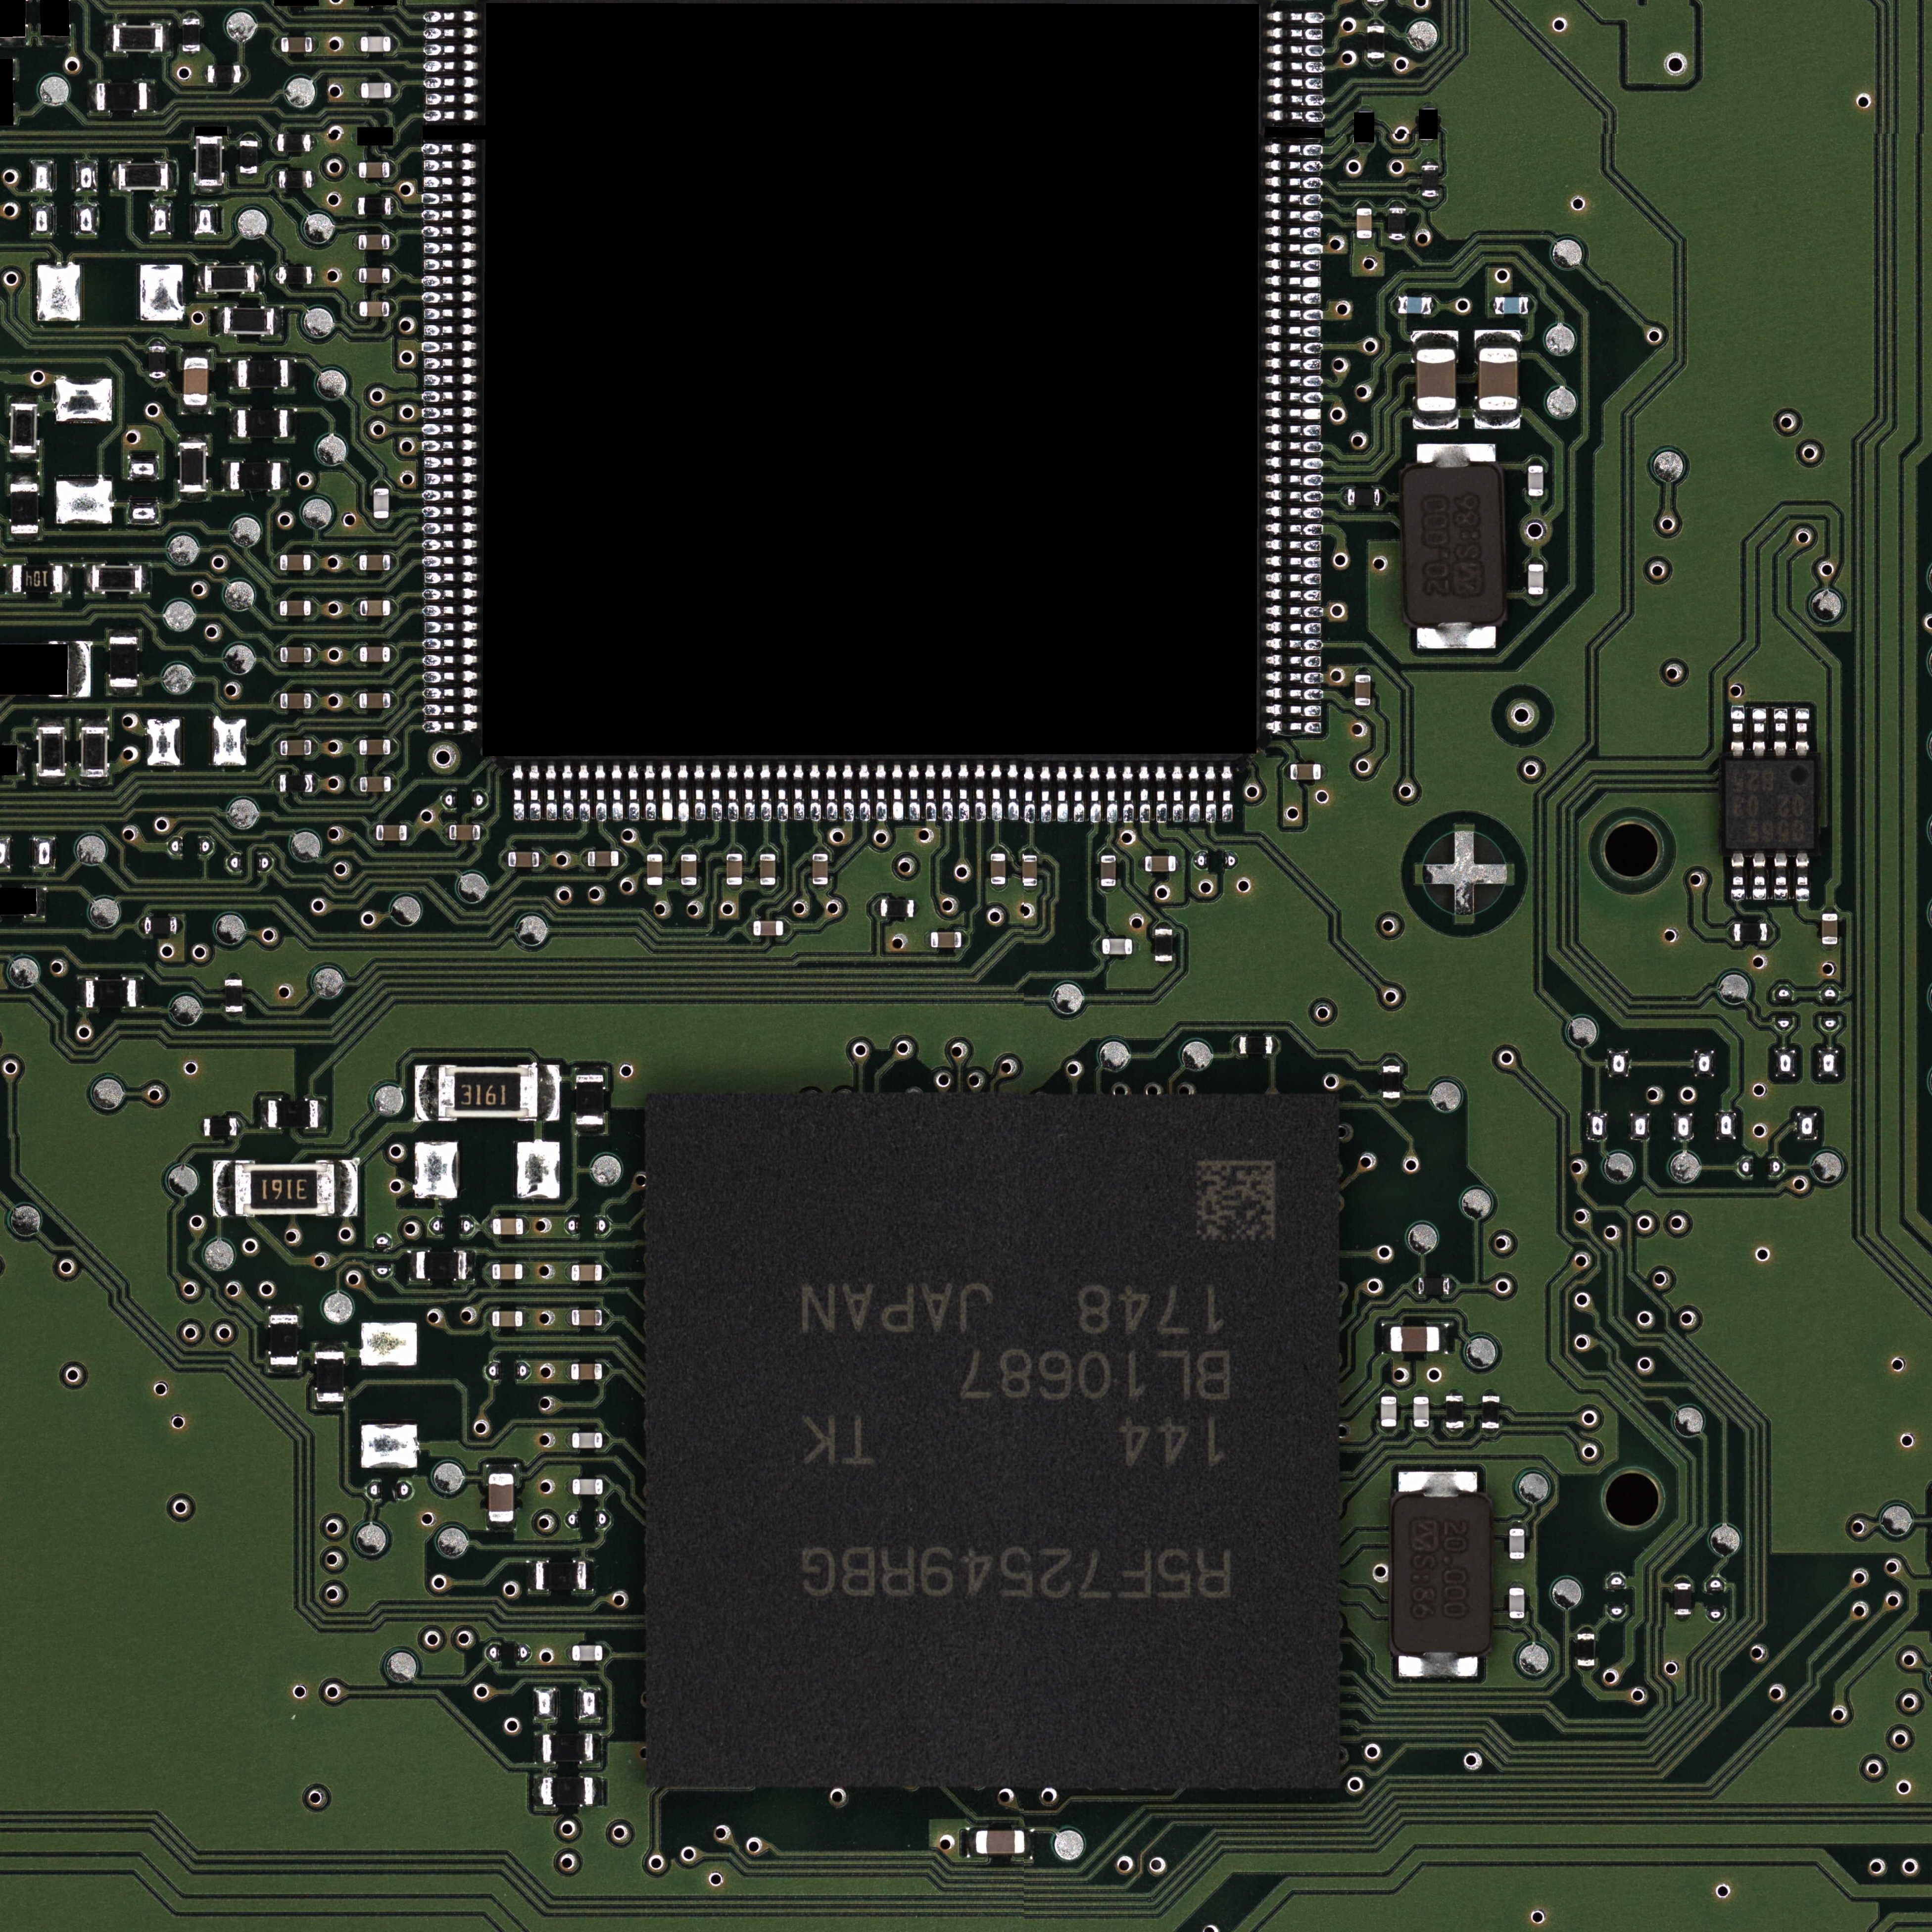Package: (646, 1095, 1341, 1790), (1403, 467, 1504, 621), (1392, 1499, 1491, 1652), (1725, 761, 1815, 849), (439, 1065, 538, 1118), (235, 1164, 334, 1215), (1477, 347, 1518, 410), (1415, 349, 1456, 410), (315, 1352, 345, 1401), (416, 1251, 467, 1279), (267, 1100, 318, 1129), (110, 637, 138, 686), (230, 462, 280, 490), (239, 359, 288, 387), (12, 564, 62, 593), (11, 483, 39, 533), (543, 1734, 593, 1762), (543, 1778, 593, 1806), (536, 1562, 586, 1591), (577, 1074, 603, 1125), (225, 308, 274, 334), (97, 83, 147, 110), (113, 25, 163, 51), (237, 410, 287, 437), (205, 265, 255, 292), (271, 1315, 297, 1364), (87, 980, 136, 1007), (196, 136, 221, 186), (119, 165, 168, 189), (92, 566, 142, 591), (180, 442, 205, 492), (81, 727, 106, 777), (39, 727, 64, 777), (11, 403, 35, 453), (975, 1829, 1024, 1854), (1391, 1327, 1440, 1352), (184, 357, 209, 405), (488, 1474, 513, 1522), (239, 140, 258, 173), (357, 196, 391, 216), (1481, 1396, 1500, 1430), (1382, 1065, 1401, 1099), (280, 265, 311, 285), (1154, 929, 1173, 961), (207, 65, 241, 83), (278, 134, 311, 152), (225, 978, 242, 1012), (203, 1118, 237, 1136), (1576, 1633, 1594, 1667), (1238, 1037, 1272, 1054), (1734, 924, 1767, 941), (280, 170, 311, 188), (881, 899, 913, 916), (182, 19, 200, 51), (280, 775, 311, 793), (145, 916, 177, 934), (149, 347, 166, 379), (1399, 297, 1431, 315), (1368, 27, 1385, 58), (1389, 207, 1407, 239), (1348, 488, 1380, 506), (1421, 165, 1438, 196), (1495, 297, 1527, 315), (1445, 1396, 1463, 1428), (1417, 1277, 1449, 1295), (1674, 1583, 1691, 1615), (359, 554, 389, 571), (571, 1431, 602, 1449), (931, 931, 961, 948), (359, 740, 391, 755), (280, 694, 311, 709), (280, 740, 311, 755), (587, 851, 619, 867), (280, 600, 311, 616), (508, 851, 540, 867), (359, 777, 391, 793), (991, 853, 1007, 885), (571, 1364, 603, 1380), (571, 1645, 603, 1661), (1355, 674, 1371, 706), (1822, 913, 1838, 945), (361, 83, 391, 99), (361, 35, 391, 51), (281, 37, 311, 53), (359, 646, 389, 662), (359, 163, 389, 179), (377, 824, 407, 840), (359, 234, 389, 249), (359, 600, 389, 616), (812, 855, 828, 885), (359, 267, 389, 283), (373, 488, 389, 518), (359, 301, 389, 317), (727, 855, 743, 885), (449, 824, 479, 840), (681, 855, 697, 885), (761, 855, 777, 885), (571, 1309, 602, 1325), (573, 1479, 603, 1495), (492, 1311, 522, 1327), (492, 1263, 522, 1279), (571, 1265, 602, 1281), (754, 920, 784, 936), (494, 1219, 524, 1235), (1290, 764, 1320, 780), (1145, 856, 1175, 872), (1529, 564, 1545, 594), (1100, 856, 1116, 886), (1509, 1589, 1525, 1619), (1414, 1398, 1430, 1428), (1380, 1396, 1396, 1426), (1102, 938, 1132, 954), (1509, 1529, 1525, 1559), (280, 648, 311, 662), (280, 556, 311, 570), (359, 694, 389, 708), (648, 855, 662, 885), (1357, 209, 1371, 239), (1529, 465, 1543, 495)
Solder: (1417, 621, 1497, 649), (1399, 1472, 1477, 1499), (1417, 442, 1497, 467), (1399, 1652, 1477, 1677), (538, 1063, 559, 1122), (336, 1161, 357, 1217), (416, 1065, 437, 1122), (69, 640, 90, 697), (214, 1161, 234, 1217), (1474, 329, 1522, 347), (1414, 410, 1456, 430), (1474, 410, 1520, 428), (1794, 708, 1810, 757), (1752, 708, 1767, 757), (1412, 331, 1456, 349), (1267, 257, 1322, 271), (1267, 405, 1322, 419), (1752, 853, 1767, 901), (1730, 706, 1744, 757), (513, 763, 525, 821), (579, 763, 591, 821), (594, 763, 607, 821), (612, 763, 625, 821), (711, 763, 724, 821), (644, 763, 656, 821), (793, 763, 805, 821), (941, 763, 954, 821), (1040, 764, 1053, 823), (1205, 764, 1217, 823), (1773, 708, 1787, 757), (423, 60, 479, 73), (423, 110, 479, 122), (421, 605, 478, 617), (423, 587, 479, 600), (423, 571, 479, 584), (423, 538, 479, 550), (423, 522, 479, 534), (423, 506, 479, 518), (421, 655, 478, 667), (421, 671, 478, 683), (423, 290, 479, 303), (423, 357, 479, 370), (423, 423, 479, 435), (561, 764, 573, 821), (628, 764, 640, 821), (727, 764, 740, 821), (694, 764, 706, 821), (678, 764, 690, 821), (660, 764, 672, 821), (908, 764, 920, 821), (892, 764, 904, 821), (842, 764, 855, 821), (809, 764, 821, 821), (826, 764, 839, 821), (957, 764, 970, 821), (975, 764, 987, 821), (1122, 766, 1134, 823), (1106, 766, 1118, 823), (1267, 110, 1323, 122), (1267, 28, 1323, 41), (425, 11, 479, 23), (425, 27, 479, 39), (425, 44, 479, 57), (425, 76, 479, 88), (425, 92, 479, 104), (423, 143, 478, 156), (423, 159, 478, 172), (423, 193, 478, 205), (423, 209, 478, 221), (423, 225, 478, 237), (423, 258, 478, 271), (425, 554, 479, 566), (425, 488, 479, 501), (425, 472, 479, 485), (423, 639, 478, 651), (423, 686, 478, 699), (423, 720, 478, 732), (423, 324, 478, 336), (423, 340, 478, 352), (425, 373, 479, 386), (423, 389, 478, 402), (423, 405, 478, 418), (423, 439, 478, 451), (423, 456, 478, 469), (1056, 766, 1069, 821), (1088, 766, 1100, 821), (1221, 766, 1233, 821), (1265, 720, 1320, 732), (1265, 704, 1320, 717), (1267, 688, 1322, 701), (1267, 671, 1322, 683), (1267, 605, 1322, 617), (1267, 621, 1322, 633), (1267, 637, 1322, 649), (1267, 655, 1322, 667), (1267, 488, 1322, 501), (1267, 472, 1322, 485), (1267, 506, 1322, 518), (1267, 522, 1322, 534), (1267, 538, 1322, 550), (1267, 587, 1322, 600), (1267, 571, 1322, 584), (1267, 556, 1322, 568), (1267, 209, 1322, 221), (1267, 225, 1322, 237), (1267, 242, 1322, 255), (1267, 274, 1322, 287), (1267, 290, 1322, 303), (1267, 308, 1322, 320), (1267, 324, 1322, 336), (1267, 341, 1322, 354), (1267, 357, 1322, 370), (1267, 373, 1322, 386), (1267, 389, 1322, 402), (1267, 423, 1322, 435), (1265, 439, 1320, 451), (1265, 456, 1320, 469), (1267, 143, 1322, 156), (1267, 159, 1322, 172), (1267, 175, 1322, 188), (1267, 193, 1322, 205), (1269, 78, 1323, 90), (1269, 94, 1323, 106), (1269, 60, 1323, 73), (1269, 44, 1323, 57), (1267, 11, 1322, 23), (1775, 853, 1789, 901), (1730, 853, 1744, 901), (425, 621, 478, 633), (423, 274, 476, 287), (425, 306, 478, 318), (529, 763, 540, 821), (547, 763, 557, 821), (860, 763, 870, 821), (1008, 763, 1019, 821), (1074, 764, 1085, 823), (1173, 764, 1184, 823), (1796, 853, 1808, 902), (745, 764, 755, 821), (761, 764, 771, 821), (876, 764, 886, 821), (777, 764, 787, 821), (925, 764, 936, 821), (991, 764, 1001, 821), (1024, 766, 1035, 823), (1139, 766, 1150, 823), (1155, 766, 1166, 823), (423, 177, 478, 188), (423, 704, 478, 715), (1189, 766, 1200, 821), (425, 242, 478, 253), (7, 472, 41, 483), (177, 432, 209, 442), (76, 977, 87, 1008), (267, 1364, 299, 1375), (575, 1125, 607, 1136), (1024, 1828, 1035, 1859), (39, 37, 71, 48), (593, 1776, 603, 1806), (1380, 1323, 1391, 1353), (1440, 1323, 1451, 1353), (964, 1828, 975, 1858), (168, 159, 177, 195), (110, 161, 119, 195), (191, 186, 225, 195), (586, 1560, 594, 1594), (180, 349, 212, 357), (228, 359, 237, 391), (196, 264, 205, 295), (221, 460, 230, 492), (177, 492, 209, 501), (7, 453, 39, 462), (104, 23, 113, 55), (35, 777, 67, 786), (108, 686, 140, 695), (35, 718, 67, 727), (78, 777, 110, 786), (142, 563, 150, 594), (83, 563, 92, 594), (108, 628, 140, 637), (258, 1097, 267, 1129), (267, 1306, 299, 1315), (313, 1341, 345, 1350), (533, 1776, 541, 1808), (527, 1560, 536, 1592), (533, 1732, 541, 1764), (180, 405, 211, 414), (228, 409, 237, 439), (78, 718, 108, 727), (62, 564, 71, 594), (315, 1401, 345, 1410), (467, 1251, 476, 1281), (136, 977, 145, 1007), (407, 1251, 416, 1281), (575, 1065, 605, 1074), (487, 1463, 517, 1472), (593, 1734, 602, 1764), (487, 1522, 517, 1530), (37, 888, 46, 916), (0, 37, 27, 46), (88, 81, 96, 113), (281, 460, 288, 492), (9, 534, 41, 541), (318, 1099, 326, 1131), (18, 743, 25, 775), (274, 306, 281, 336), (163, 23, 170, 53), (147, 81, 154, 111), (288, 359, 295, 389), (288, 409, 295, 439), (255, 264, 262, 294), (216, 306, 223, 336), (9, 395, 39, 402), (5, 564, 12, 594), (1380, 1426, 1398, 1435), (389, 646, 398, 662), (373, 479, 389, 488), (389, 692, 398, 708), (389, 600, 398, 616), (1154, 961, 1173, 968), (389, 740, 398, 754), (225, 973, 242, 980), (225, 1012, 242, 1019), (602, 1311, 610, 1325), (524, 1217, 531, 1235), (603, 1644, 610, 1661), (1421, 196, 1438, 203), (1382, 1058, 1399, 1065), (1449, 1277, 1456, 1295), (1412, 1428, 1430, 1435), (1488, 297, 1495, 315), (1527, 557, 1545, 564), (1445, 1428, 1463, 1435), (272, 172, 280, 188), (311, 172, 318, 188), (149, 340, 165, 347), (310, 134, 317, 150), (311, 267, 318, 283), (373, 518, 389, 525), (274, 740, 281, 755), (177, 918, 184, 934), (370, 824, 377, 840), (311, 694, 318, 709), (311, 740, 318, 755), (138, 918, 145, 934), (812, 847, 828, 855), (727, 847, 743, 855), (759, 847, 775, 855), (603, 1265, 610, 1281), (603, 1433, 610, 1449), (522, 1263, 529, 1279), (602, 1362, 609, 1378), (603, 1479, 610, 1495), (1392, 297, 1399, 313), (1357, 239, 1373, 246), (1368, 58, 1384, 65), (1389, 239, 1405, 246), (1389, 200, 1405, 207), (1431, 297, 1438, 313), (1355, 143, 1371, 150), (1341, 490, 1348, 506), (1155, 922, 1171, 929), (1380, 490, 1387, 506), (1100, 847, 1116, 855), (1380, 1389, 1396, 1396), (1384, 1099, 1399, 1106), (1414, 1389, 1430, 1396), (1272, 1037, 1279, 1053), (1529, 297, 1536, 313), (1529, 458, 1545, 465), (1529, 594, 1545, 602), (1483, 1389, 1499, 1396), (1578, 1626, 1594, 1633), (1674, 1576, 1690, 1583), (1509, 1522, 1525, 1529), (1578, 1665, 1594, 1672), (1509, 1559, 1525, 1566), (389, 163, 396, 177), (352, 163, 359, 177), (352, 556, 359, 570), (354, 777, 361, 791), (352, 648, 359, 662), (272, 648, 280, 662), (272, 556, 280, 570), (311, 602, 318, 616), (311, 648, 318, 662), (310, 556, 317, 570), (407, 826, 414, 840), (391, 556, 398, 570), (747, 922, 754, 936), (874, 901, 881, 915), (727, 885, 741, 892), (566, 1433, 573, 1447), (522, 1311, 529, 1325), (566, 1479, 573, 1493), (1357, 202, 1371, 209), (991, 846, 1005, 853), (1412, 1279, 1419, 1293), (1529, 497, 1543, 504), (1447, 1389, 1461, 1396), (149, 379, 166, 384), (313, 775, 318, 793), (198, 1118, 203, 1136), (237, 1118, 242, 1136), (1421, 159, 1438, 165), (1233, 1037, 1238, 1054), (1729, 924, 1734, 941), (352, 303, 359, 315), (389, 269, 396, 281), (617, 853, 625, 865), (502, 853, 510, 865), (241, 134, 257, 140), (241, 173, 257, 179), (352, 198, 357, 214), (272, 134, 278, 150), (391, 198, 396, 214), (182, 51, 198, 57), (274, 775, 280, 791), (487, 1263, 492, 1279), (566, 1364, 571, 1380), (566, 1645, 571, 1661), (1368, 19, 1384, 25), (1421, 103, 1437, 108), (1357, 106, 1373, 111), (1419, 140, 1435, 145), (1355, 669, 1371, 674), (1355, 706, 1371, 711), (1822, 908, 1838, 913), (1767, 925, 1773, 941), (1509, 1619, 1525, 1624), (1509, 1582, 1525, 1587), (1483, 1430, 1499, 1435), (389, 235, 395, 249), (391, 37, 396, 51), (354, 235, 359, 249), (356, 37, 361, 51), (391, 83, 396, 97), (356, 83, 361, 97), (274, 269, 280, 283), (241, 67, 246, 81), (311, 37, 317, 51), (184, 12, 198, 18), (202, 67, 207, 81), (274, 694, 280, 708), (274, 602, 280, 616), (354, 602, 359, 616), (354, 694, 359, 708), (354, 740, 359, 754), (444, 824, 449, 839), (391, 777, 396, 791), (648, 849, 662, 855), (784, 922, 789, 936), (681, 849, 695, 855), (925, 932, 931, 947), (681, 885, 695, 890), (761, 885, 775, 890), (814, 885, 828, 890), (566, 1265, 571, 1279), (487, 1219, 492, 1233), (566, 1311, 571, 1325), (487, 1311, 492, 1325), (1320, 764, 1325, 778), (1284, 764, 1290, 778), (1097, 939, 1102, 954), (1132, 939, 1138, 954), (1175, 856, 1180, 870), (1139, 856, 1145, 870), (961, 932, 966, 947), (1100, 886, 1115, 892), (1675, 1615, 1690, 1621), (354, 269, 359, 281), (276, 39, 281, 51), (389, 303, 395, 315), (479, 826, 485, 839), (540, 853, 545, 865), (913, 902, 918, 915), (582, 853, 587, 865), (648, 886, 662, 890), (1822, 945, 1836, 948), (993, 885, 1005, 888)
